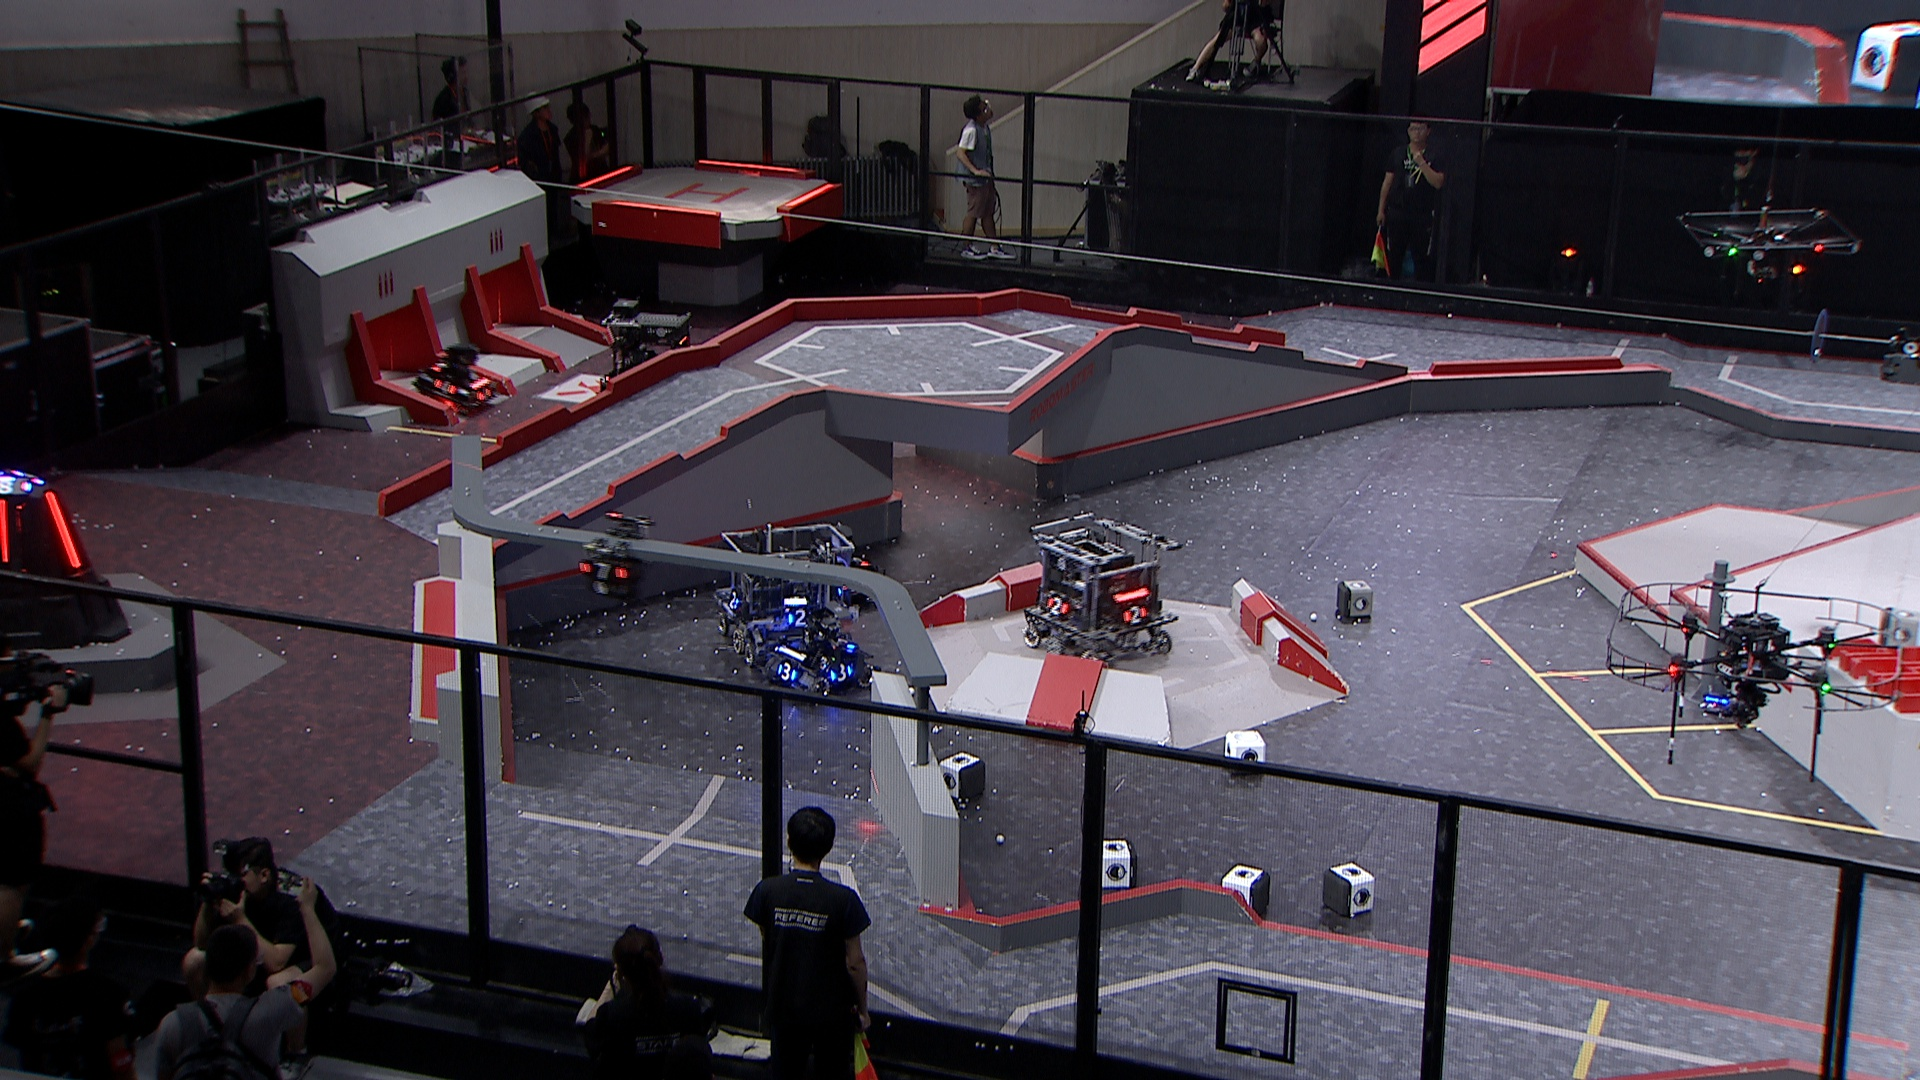armor: (44, 489, 83, 571), (582, 559, 624, 584), (1044, 595, 1069, 618), (828, 665, 855, 684), (1121, 607, 1147, 624), (774, 659, 794, 680), (785, 607, 808, 624), (434, 380, 455, 398), (833, 633, 855, 651), (727, 589, 744, 612), (852, 551, 870, 567), (433, 357, 446, 375), (481, 384, 495, 400)
car: (1021, 514, 1178, 673), (705, 522, 847, 669), (591, 294, 699, 401), (806, 514, 909, 622), (766, 618, 880, 700), (411, 342, 500, 417)
watcher: (570, 510, 650, 604)
